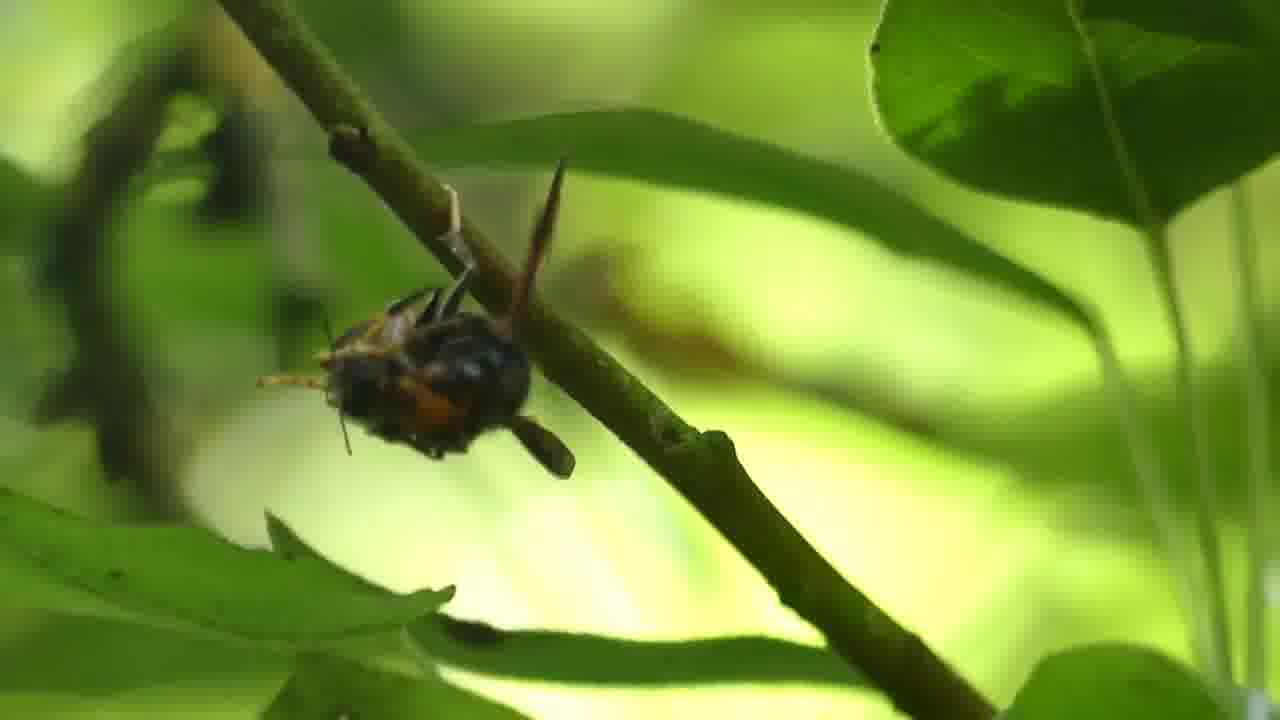hornet: (300, 246, 609, 485)
